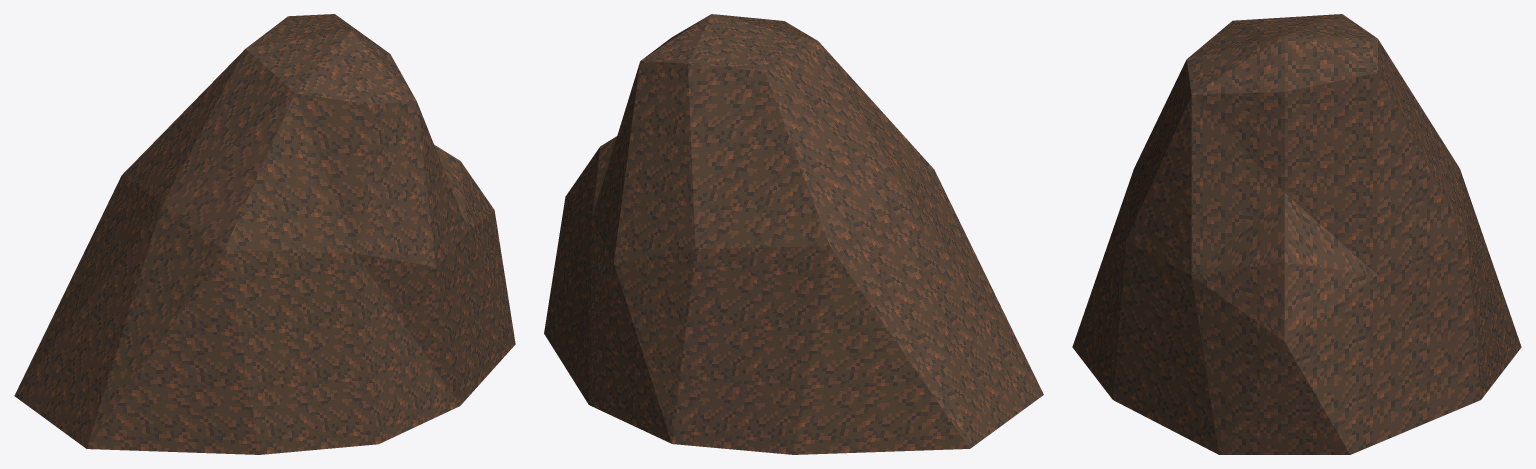
File: wetrock.obj
3 views of the same model, side by side, from view 1: azimuth 30°, elevation 25°; view 2: azimuth 150°, elevation 25°; view 3: azimuth 270°, elevation 25° (orthographic). The views are drawn at different scales.
Parts seen in each view (by area): view 1: Geoset_000; view 2: Geoset_000; view 3: Geoset_000.
Boxes of the visible parts, <box> form: Geoset_000: <box>14,14,515,454</box>; Geoset_000: <box>544,14,1043,454</box>; Geoset_000: <box>1072,14,1521,454</box>.
Size of the model in its own units: 19.25 by 13.57 by 15.87.
